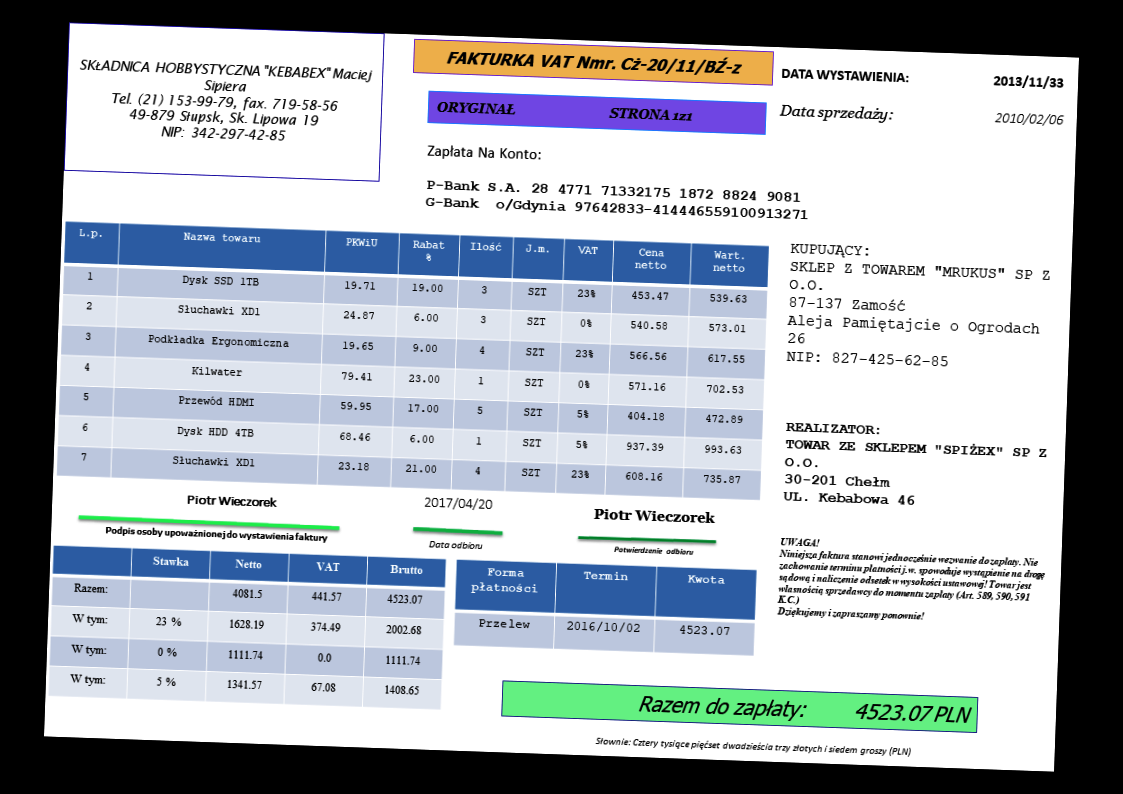Table: (54, 218, 771, 502), (46, 543, 447, 712), (451, 556, 759, 657)
TextBox: (783, 238, 1056, 376), (74, 54, 376, 149), (773, 532, 1051, 630), (781, 418, 1052, 515), (423, 175, 813, 226), (635, 690, 975, 727), (444, 44, 748, 80), (591, 733, 914, 759), (434, 95, 695, 124), (102, 522, 329, 546), (777, 98, 898, 126), (779, 64, 911, 86), (424, 141, 546, 164), (591, 505, 717, 526), (182, 491, 282, 511), (990, 72, 1068, 92), (421, 493, 494, 514), (990, 109, 1067, 128), (611, 543, 695, 558), (425, 536, 484, 553)
